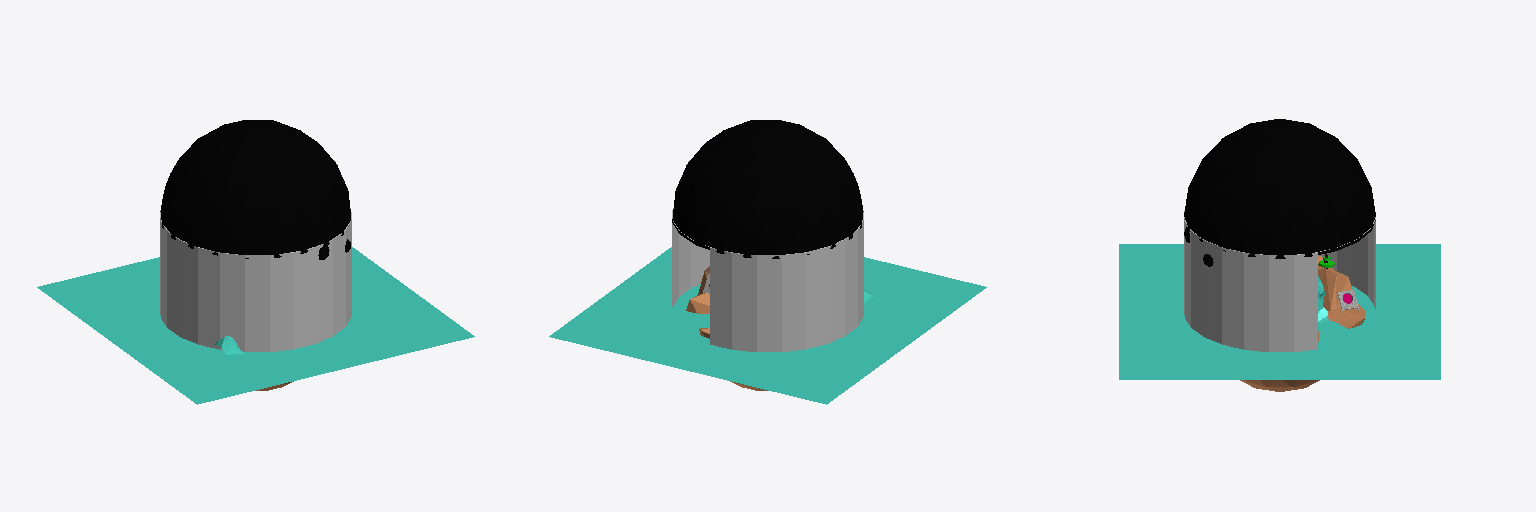
3 views of the same model, side by side, from view 1: azimuth 30°, elevation 25°; view 2: azimuth 150°, elevation 25°; view 3: azimuth 270°, elevation 25° (orthographic).
Visible parts, largest first — view 1: water_Plane, sky_sky_Icosphere_Icosphere.001, back_Cylinder_Cylinder.002; view 2: water_Plane, sky_sky_Icosphere_Icosphere.001, back_Cylinder_Cylinder.002, earth_Icosphere; view 3: water_Plane, sky_sky_Icosphere_Icosphere.001, back_Cylinder_Cylinder.002, earth_Icosphere.
Part boxes in pixels (x1,y1,x2,y2): water_Plane: (37,247,474,404); sky_sky_Icosphere_Icosphere.001: (160,120,350,258); back_Cylinder_Cylinder.002: (160,208,351,351); water_Plane: (549,247,986,404); sky_sky_Icosphere_Icosphere.001: (672,120,863,258); back_Cylinder_Cylinder.002: (672,208,863,351); earth_Icosphere: (686,266,767,390); water_Plane: (1119,244,1440,379); sky_sky_Icosphere_Icosphere.001: (1184,119,1375,258); back_Cylinder_Cylinder.002: (1184,210,1375,351); earth_Icosphere: (1240,255,1364,391).
Bounding box in the file's own units: 4 × 3.54 × 4.
20 materials, 1 textured.